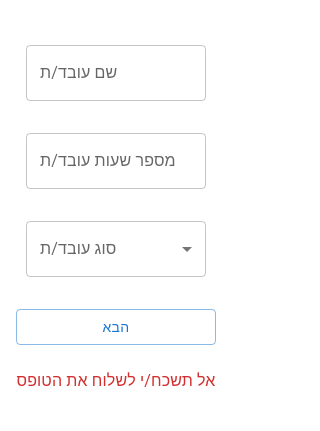
Test case: shows error when only the name field is filled
The image size is (320, 431).
Type "John Doe" into the field labelled "שם עובד/ת" at x=116, y=73, box x1=26 y1=45 x2=206 y2=101
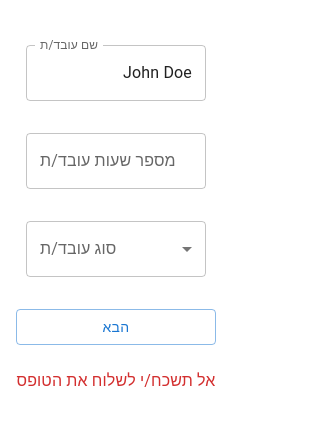
Click the button "הבא" at x=116, y=327, box x1=16 y1=309 x2=216 y2=345
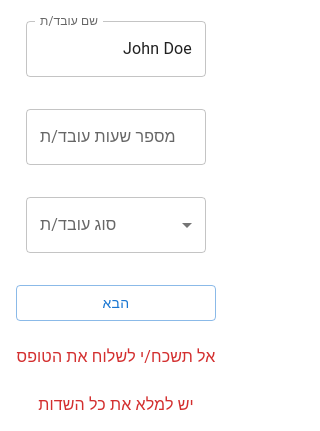
Check: the text "יש למלא את כל השדות" is shown, box x1=38 y1=395 x2=194 y2=414
